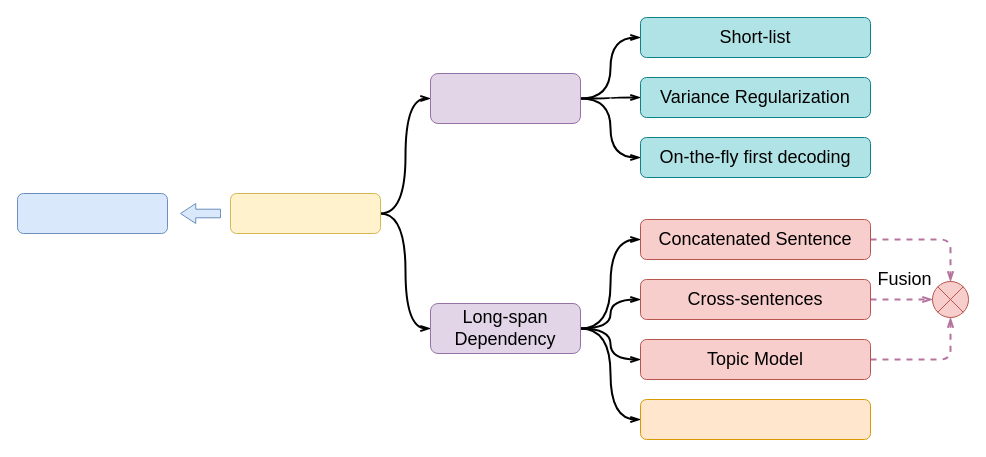
This 986x457 diagram has some shape labels left out. The centre of each missing label's shape, as x and y in pixels:
"Dialogue System (speaker)" belongs at pixel 755 419.
"Low Latency" belongs at pixel 505 98.
"Neural LMs" belongs at pixel 305 213.
"Streaming ASR" belongs at pixel 92 213.
